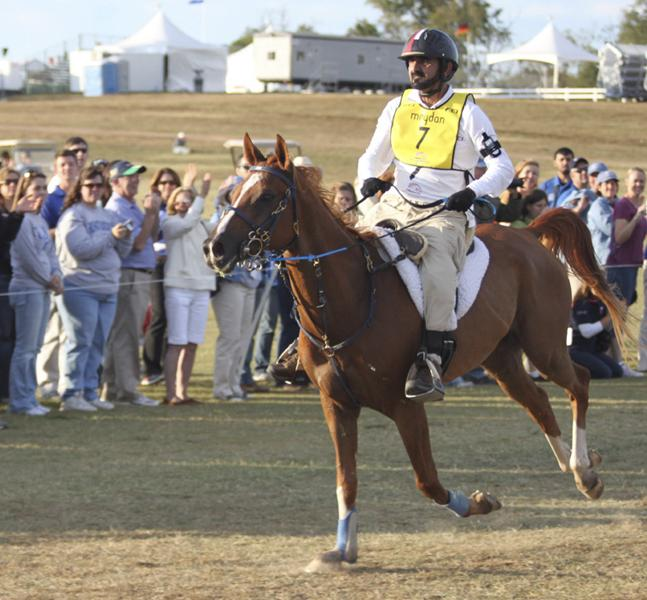person: (354, 27, 518, 401)
